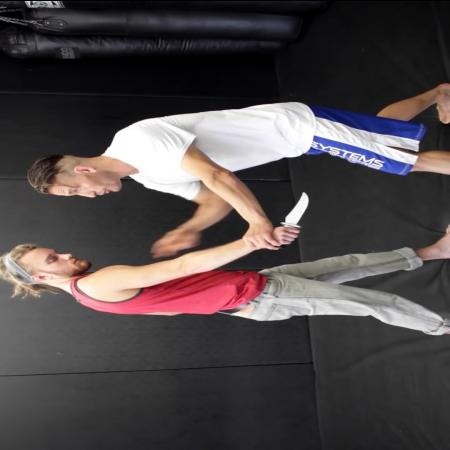long weapon: (276, 190, 316, 248)
